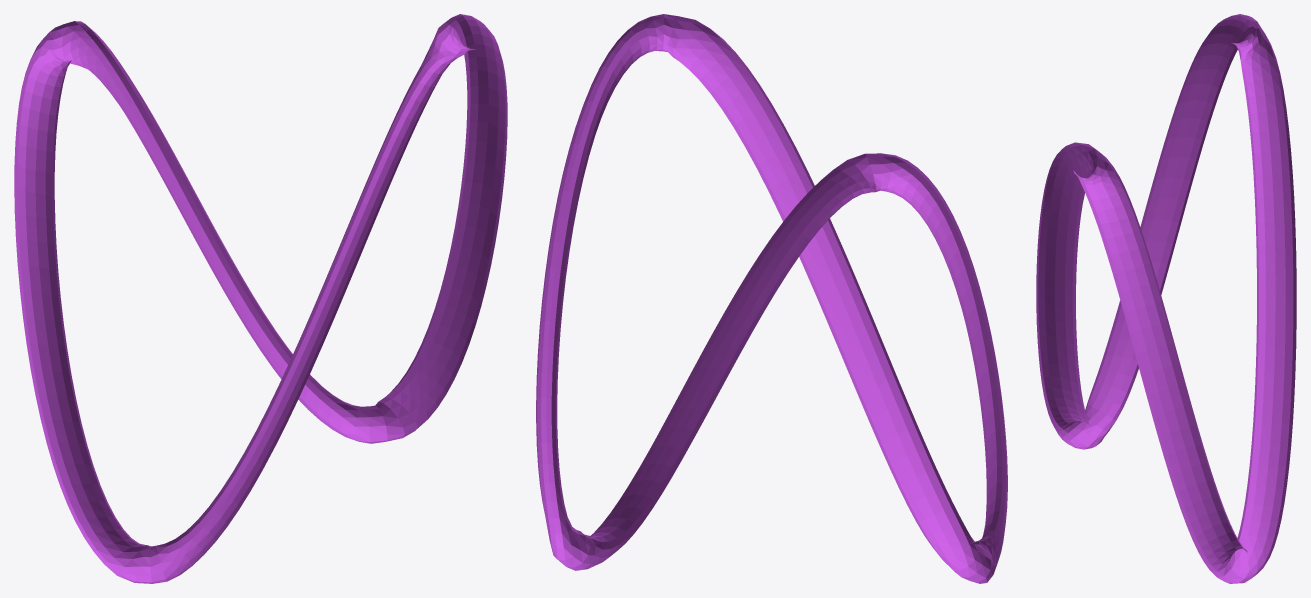
File: 1_twisted_gerono.glb
3 views of the same model, side by side, from view 1: azimuth 30°, elevation 25°; view 2: azimuth 150°, elevation 25°; view 3: azimuth 270°, elevation 25° (orthographic). The views are drawn at different scales.
Size of the model in its own units: 4.22 by 4.3 by 2.36.
